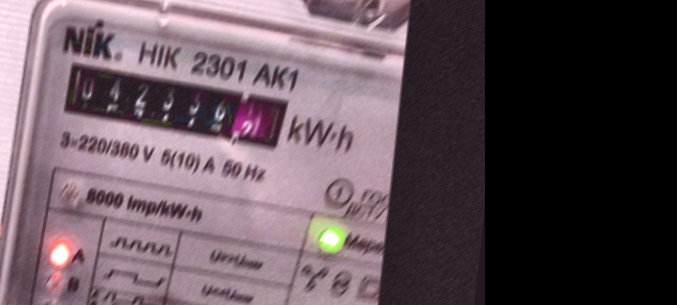0: (79, 72, 95, 102)
2: (131, 79, 151, 108)
3: (157, 82, 176, 113), (186, 86, 203, 115)
4: (105, 75, 124, 104)
6: (210, 95, 228, 123)
screen: (50, 52, 298, 158)
